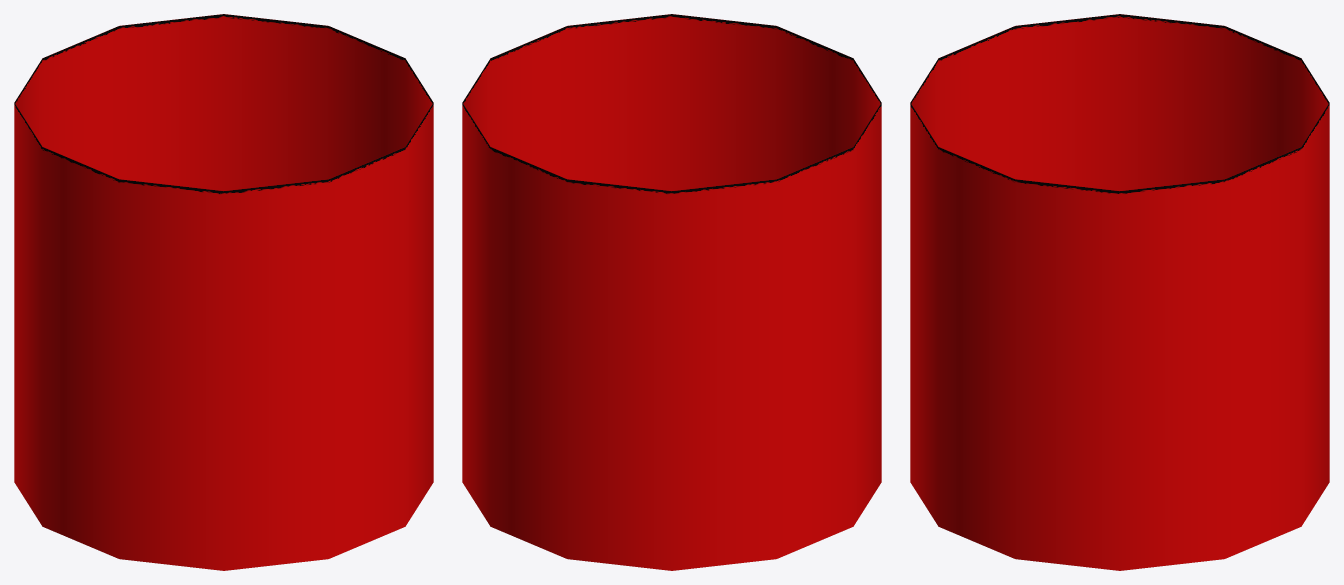
Rendered from tutorialcylindre.fbx.
The picture shows the model from 3 angles, left to right: view 1: azimuth 30°, elevation 25°; view 2: azimuth 150°, elevation 25°; view 3: azimuth 270°, elevation 25°; orthographic projection.
Parts seen in each view (by area): view 1: tutorialcylindre; view 2: tutorialcylindre; view 3: tutorialcylindre.
Boxes of the visible parts, x1=… form: tutorialcylindre: x1=14, y1=14, x2=433, y2=570; tutorialcylindre: x1=462, y1=14, x2=881, y2=570; tutorialcylindre: x1=910, y1=14, x2=1329, y2=570.
Bounding box in the file's own units: 200 × 200 × 200.
